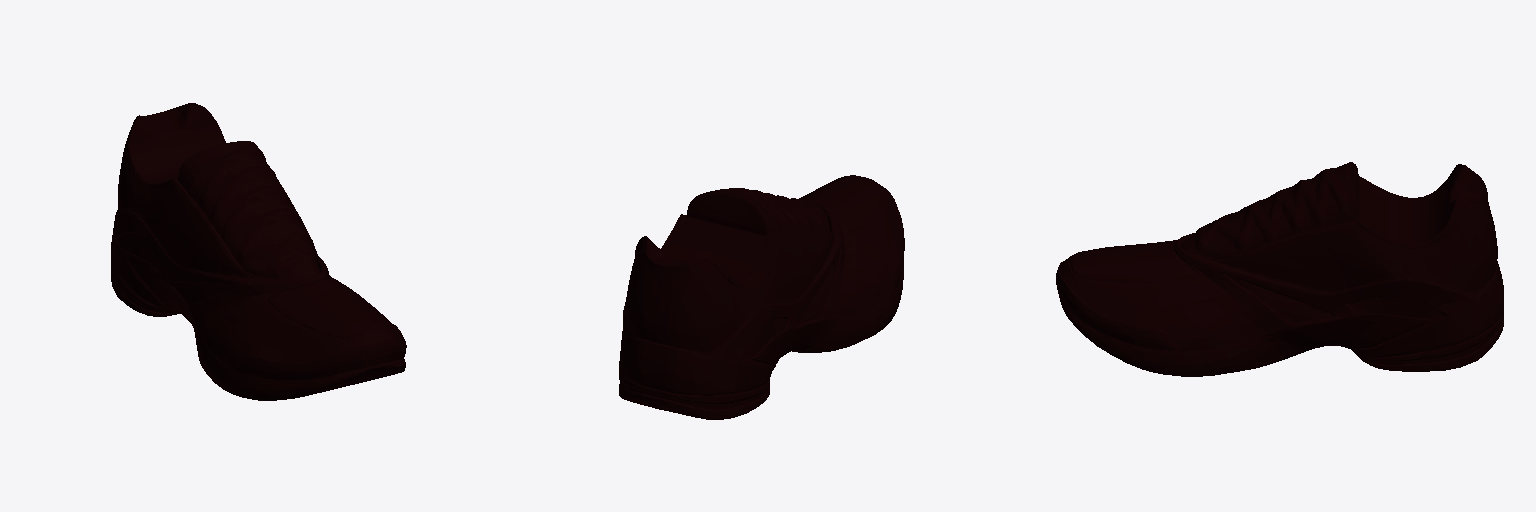
The model's file is shoes_red.obj.
3 views of the same model, side by side, from view 1: azimuth 30°, elevation 25°; view 2: azimuth 150°, elevation 25°; view 3: azimuth 270°, elevation 25° (orthographic).
Visible parts, largest first — view 1: 8971Ce84B07E437Daabf723Eeddf064B; view 2: 8971Ce84B07E437Daabf723Eeddf064B; view 3: 8971Ce84B07E437Daabf723Eeddf064B.
Part boxes in pixels (x1,y1,x2,y2): 8971Ce84B07E437Daabf723Eeddf064B: (111,103,406,400); 8971Ce84B07E437Daabf723Eeddf064B: (619,175,904,419); 8971Ce84B07E437Daabf723Eeddf064B: (1056,162,1503,376).
Bounding box in the file's own units: 0.5333 × 0.5823 × 1.36.